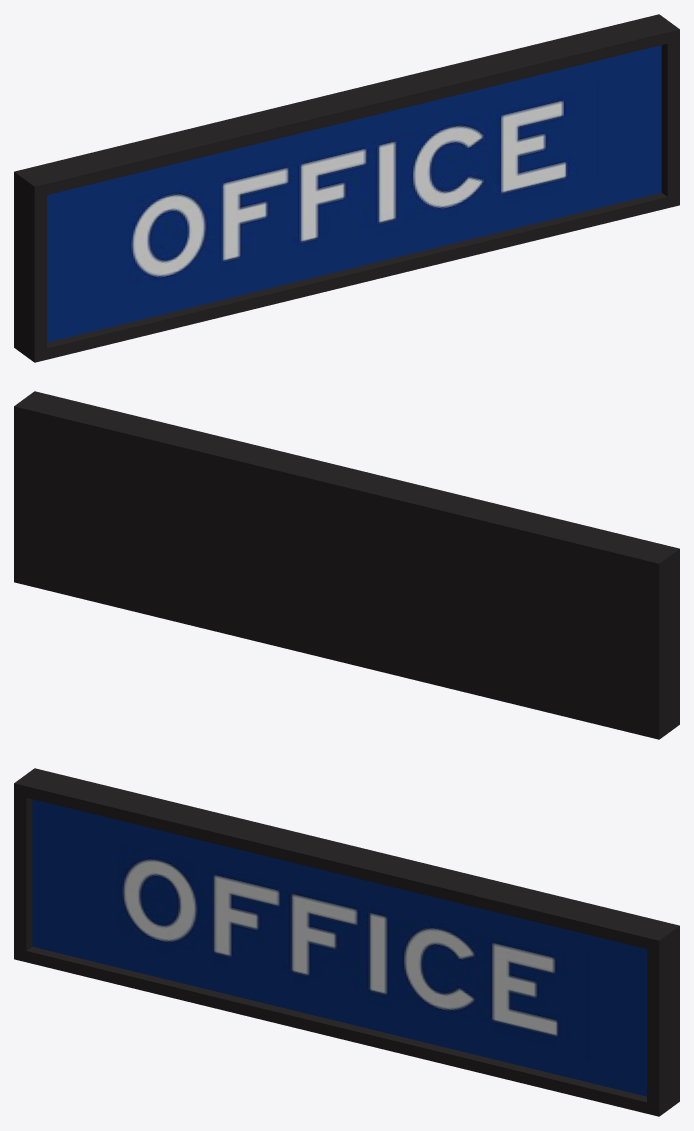
File: Placard.FBX
3 renders of one model, top to bottom at view 1: azimuth 30°, elevation 25°; view 2: azimuth 150°, elevation 25°; view 3: azimuth 330°, elevation 25°, orthographic.
Visible parts, largest first — view 1: placard; view 2: placard; view 3: placard.
Boxes of the visible parts, x1=… form: placard: x1=14, y1=14, x2=679, y2=362; placard: x1=14, y1=391, x2=679, y2=739; placard: x1=14, y1=768, x2=679, y2=1116.
Bounding box in the file's own units: 22.05 × 5.75 × 1.23.
Materials: 1 (1 with a texture image).
